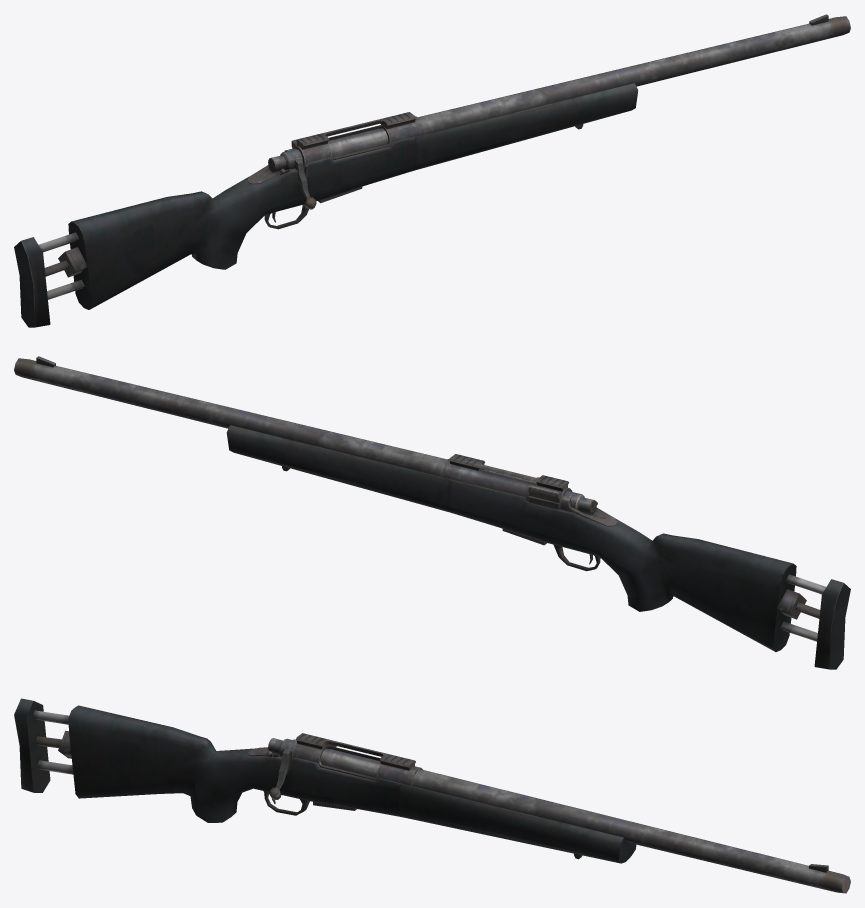
Rendered from ST_WEP_M24_Lod.FBX.
3 views of the same model, one above another, from view 1: azimuth 30°, elevation 25°; view 2: azimuth 150°, elevation 25°; view 3: azimuth 330°, elevation 25° (orthographic).
Parts seen in each view (by area): view 1: ST_WEP_M24_Lod; view 2: ST_WEP_M24_Lod; view 3: ST_WEP_M24_Lod.
Boxes of the visible parts, x1,y1,x2,y2 form: ST_WEP_M24_Lod: (14, 14, 850, 327); ST_WEP_M24_Lod: (14, 356, 850, 669); ST_WEP_M24_Lod: (14, 698, 850, 893).
Bounding box in the file's own units: 112 × 15.71 × 7.16.
Materials: 1 (1 with a texture image).
